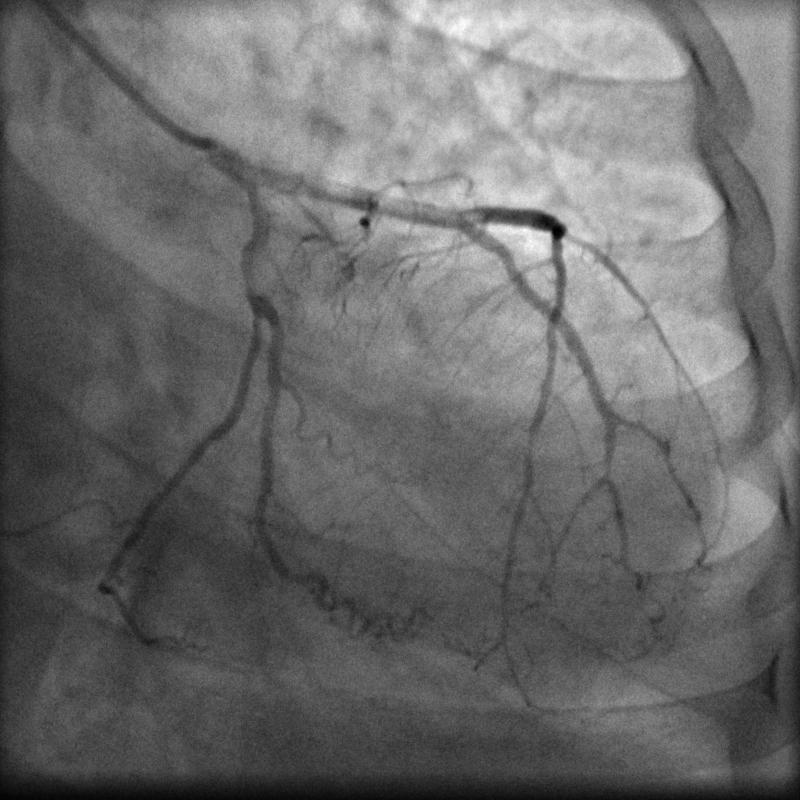Stenosis: (232, 249, 275, 310)
